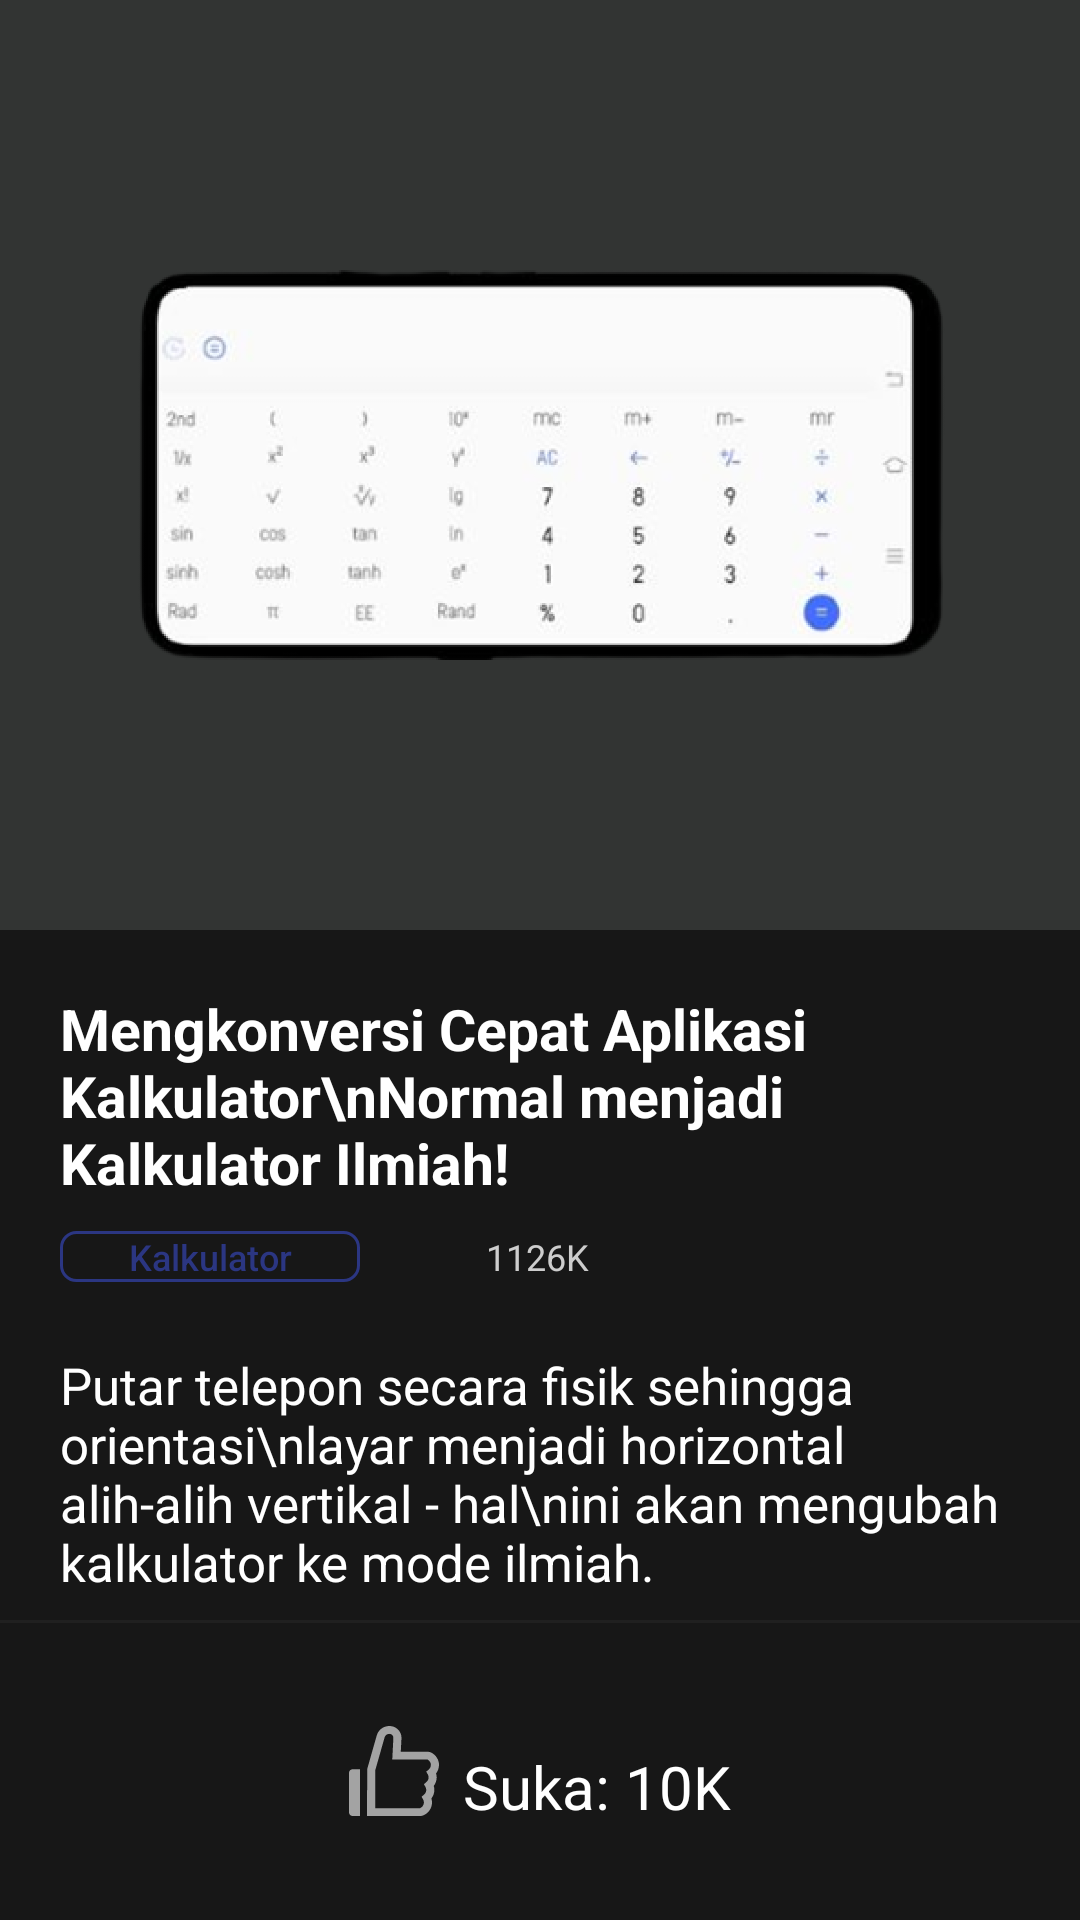

Named icons in this screenshot (1080px×1920px) and their centers, point (x, y):
like: point (394, 1771)
